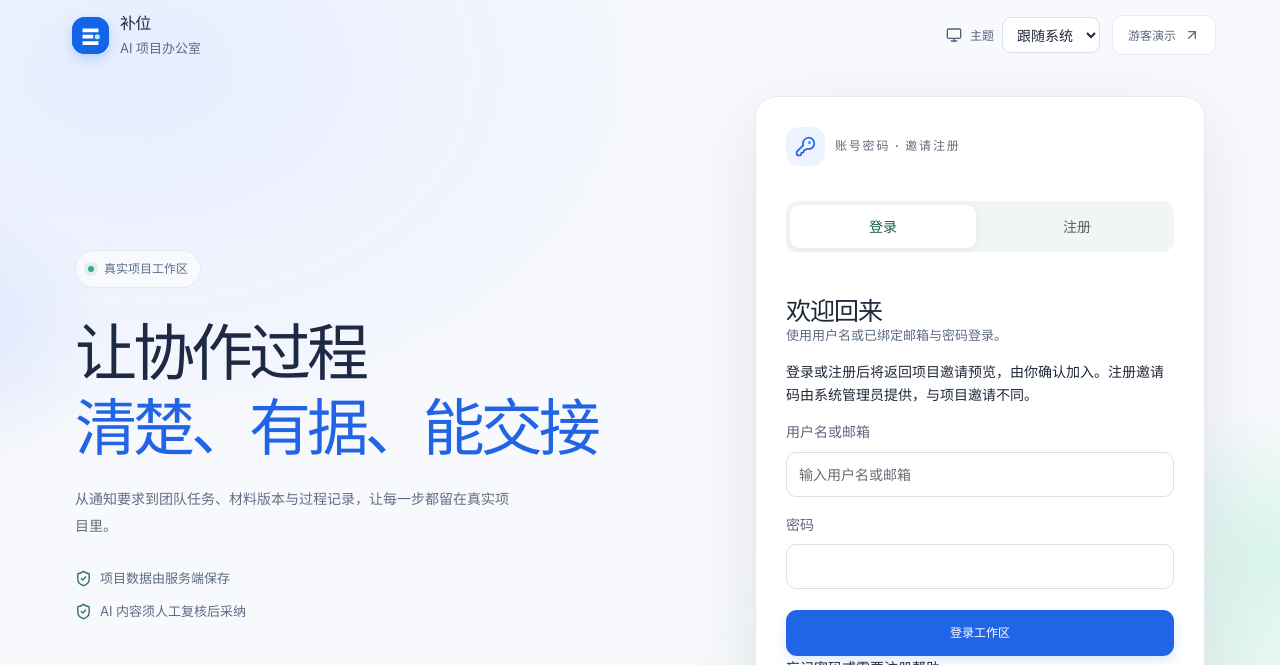
Test: keeps an unknown registration on its form, rejects another user session and prevents blind registration retry
Click the tab "注册". click: click(1077, 226)
box: [984,205,1170,248]
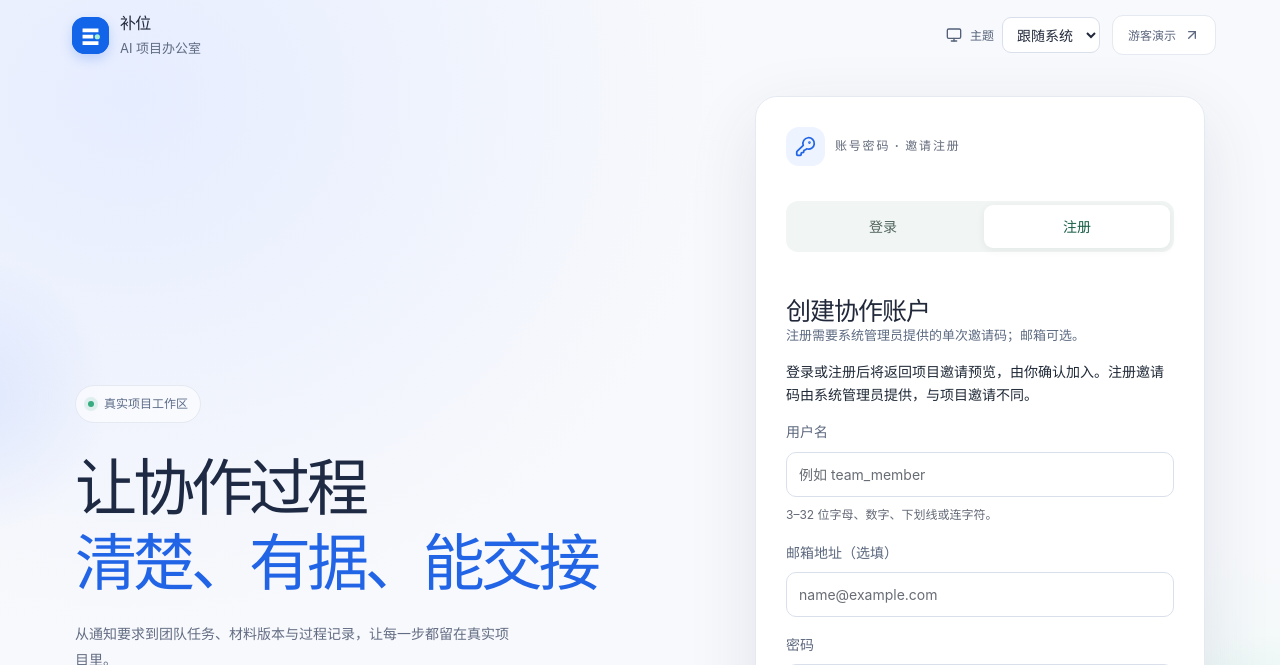
Type "team_member" into the field labelled "用户名". click: (980, 474)
box: [786,452,1174,497]
(page scrolled)
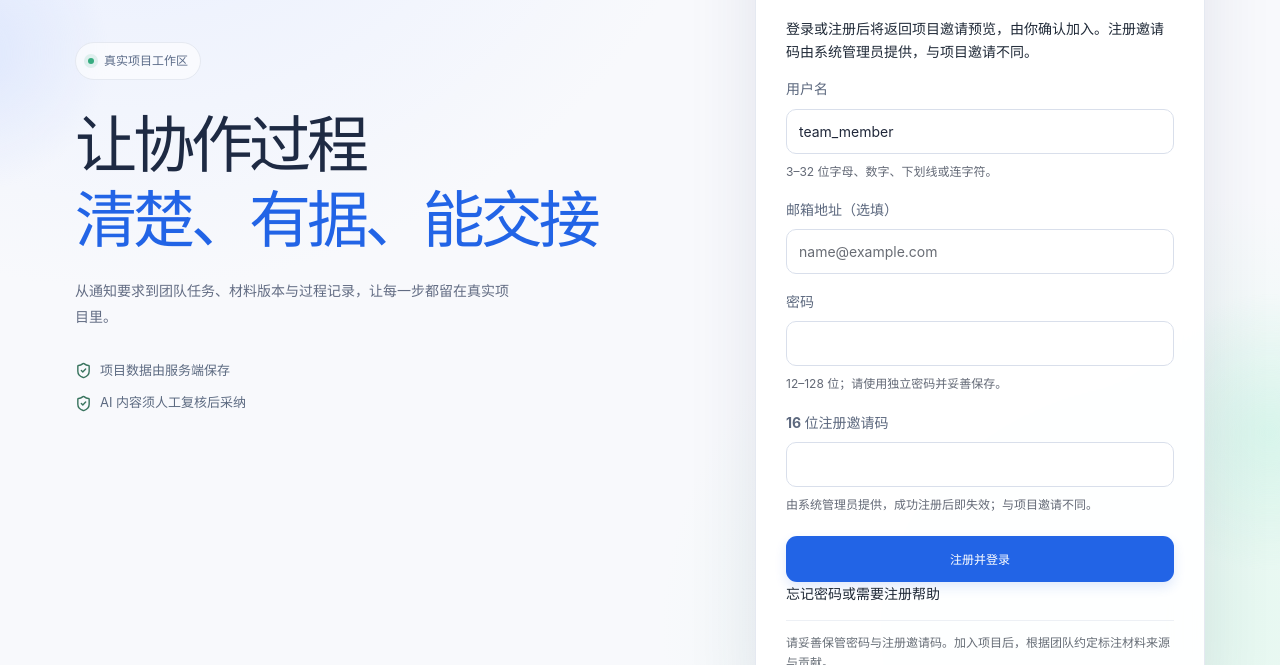
Type "very-long-memory-only-password" into the password field labelled "密码". click: (980, 344)
box: [786,321,1174,366]
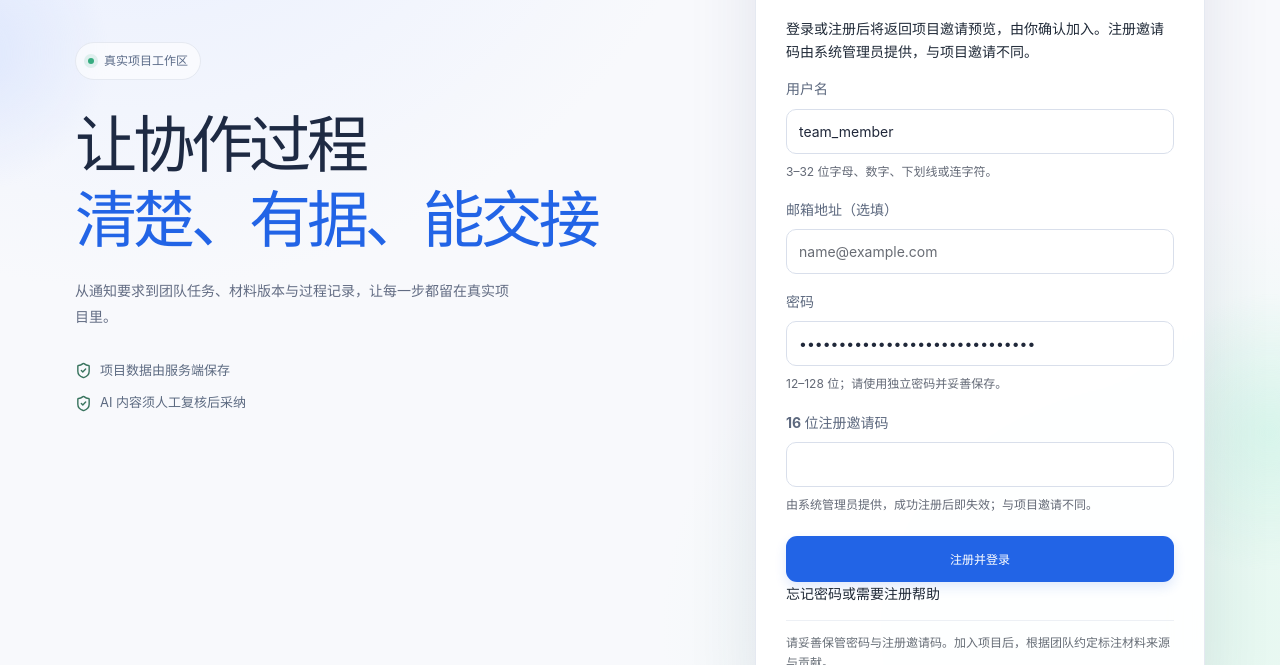
Type "ABCD1234EFGH5678" into the field labelled "16 位注册邀请码". click: (980, 464)
box: [786,442,1174,487]
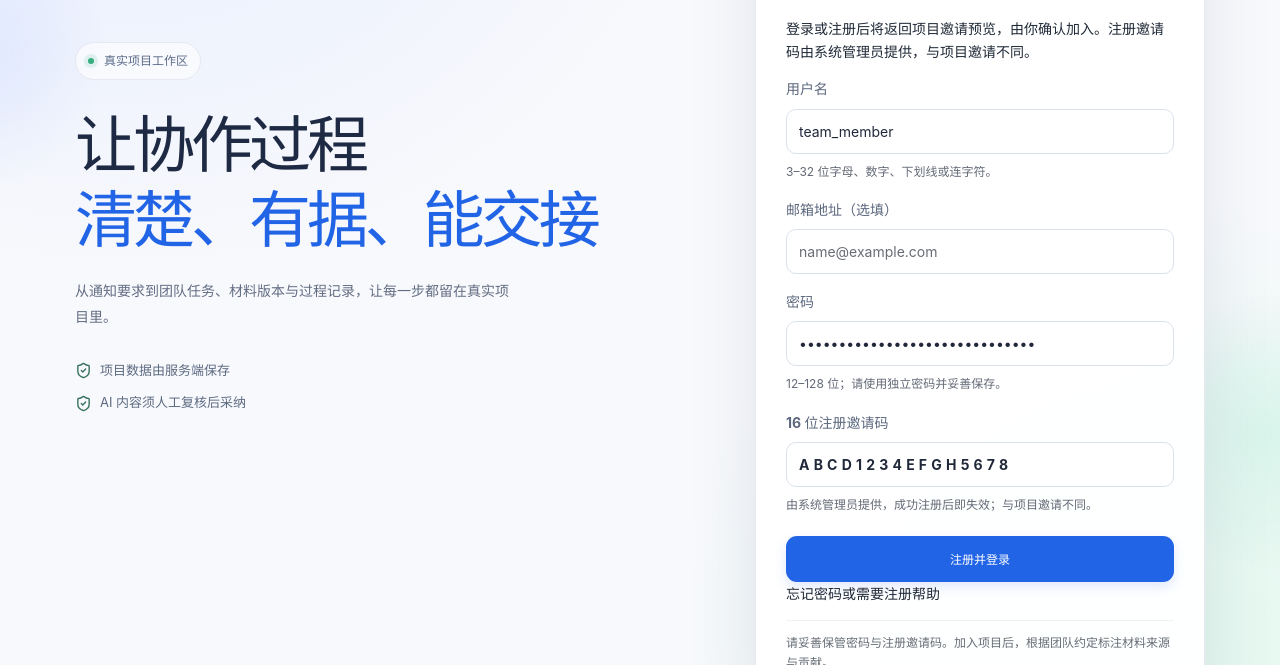
Click the button "注册并登录". click: click(980, 559)
box: [786,536,1174,582]
(page scrolled)
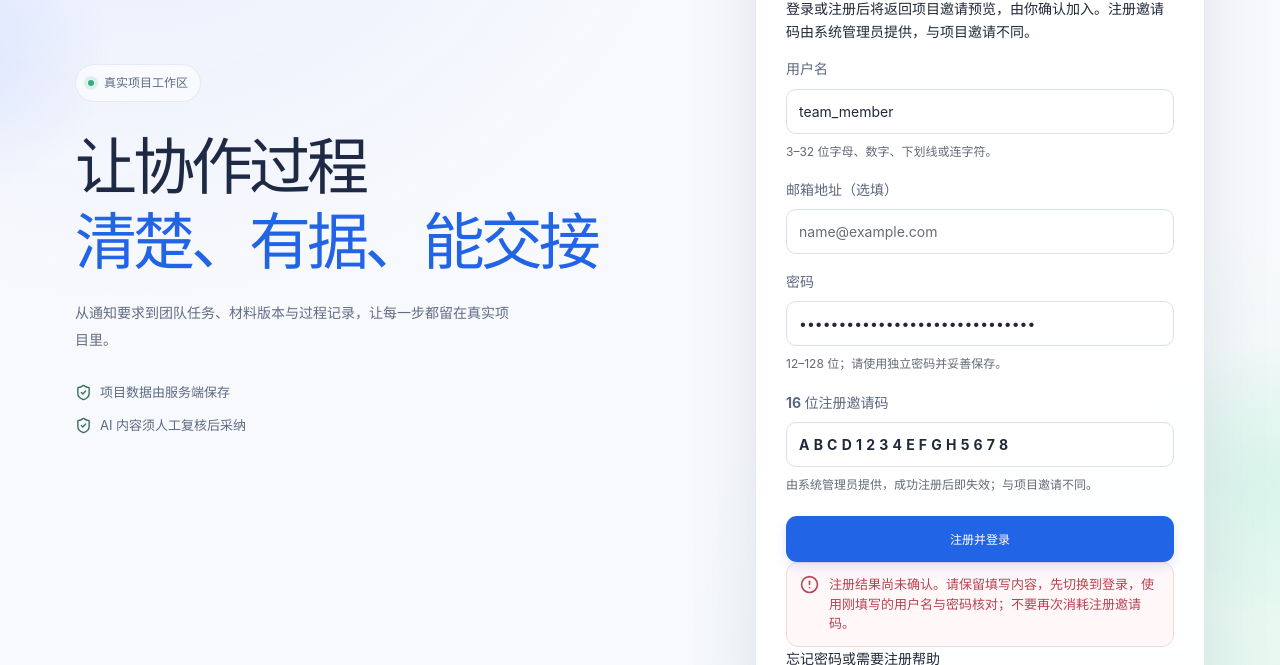
Check: the text "注册结果尚未确认。请保留填写内容，先切换到登录，使用刚填写的用户名与密码核对；不要再次消耗注册邀请码。" is shown, box [829,575,1160,634]
Click the button "注册并登录". click: click(980, 539)
box: [786,516,1174,562]
(page scrolled)
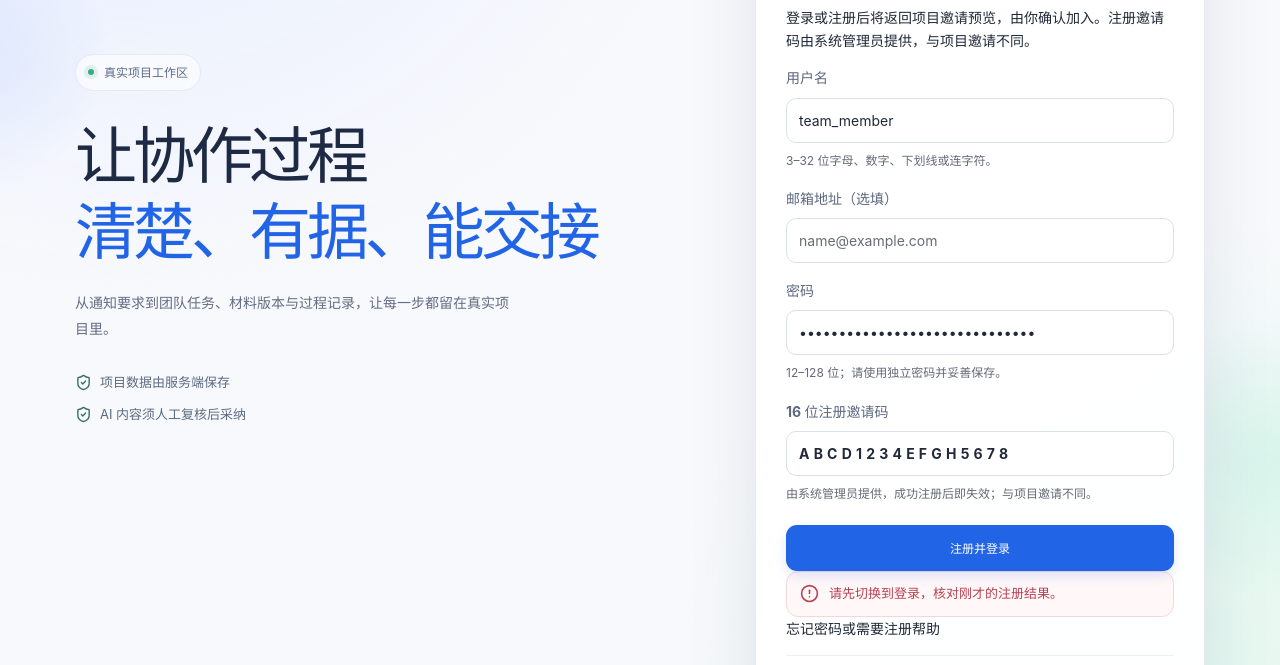
Check: the text "请先切换到登录，核对刚才的注册结果。" is shown, box [829,585,1063,601]
